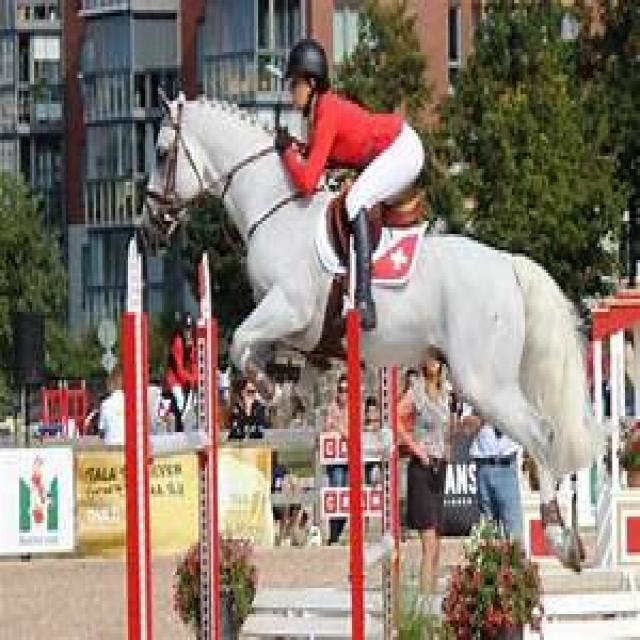horse: (361, 231, 593, 478), (156, 97, 346, 374)
